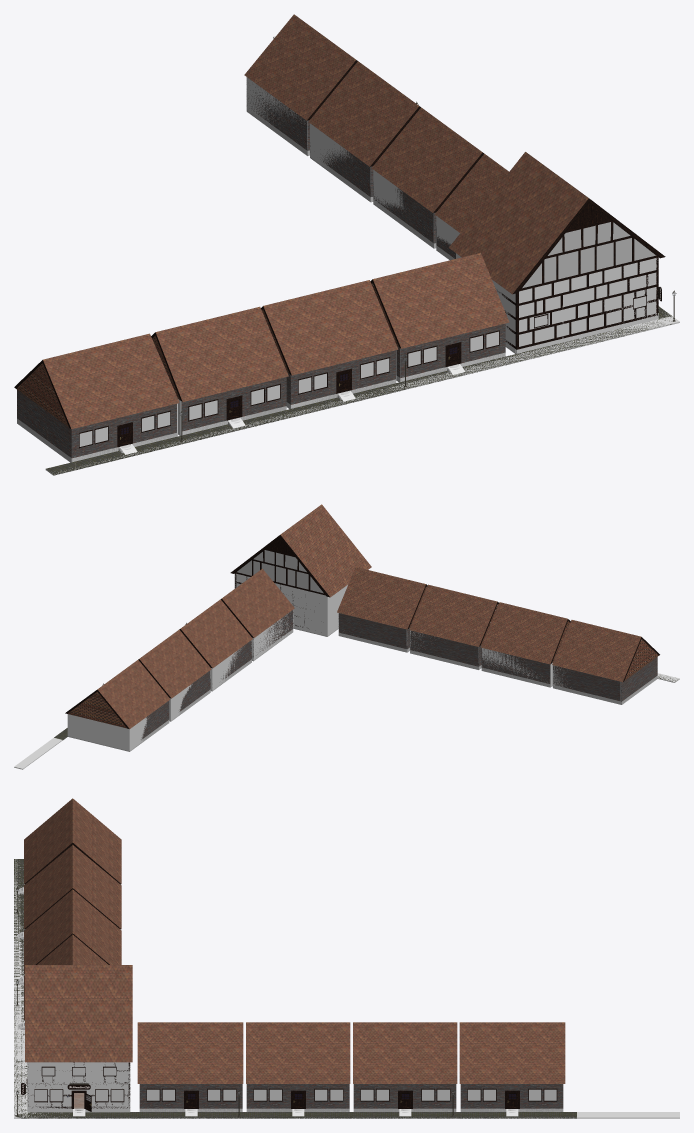
Rendered from FMC Buildings Base.fbx.
The picture shows the model from 3 angles, top to bottom: view 1: azimuth 30°, elevation 25°; view 2: azimuth 150°, elevation 25°; view 3: azimuth 270°, elevation 25°; orthographic projection. The views are drawn at different scales.
Parts seen in each view (by area): view 1: Secondary Buildings.001, Secondary Buildings.002, Roof Shingles, Side Wall 01, Sidewalk, Left, Roof Pitches, Sidewalk.001, Side Wall 01.008, Side Wall 01.006, Side Wall 01.004, Back Wall; view 2: Secondary Buildings.001, Secondary Buildings.002, Roof Shingles, Side Wall 02, Roof Pitches, Side Wall 02.004, Cobblestone Base, Right, Side Wall 01.002, Side Wall 01.018, Back Wall, Side Wall 01.004 (+1 smaller); view 3: Secondary Buildings.002, Secondary Buildings.001, Roof Shingles, Sidewalk, Front Wall.001, Front Wall.002, Sidewalk.001, Sidewalk.002, Window Frames.
Part boxes in pixels (bbox=[...]): Secondary Buildings.001: bbox=[14, 253, 509, 462]; Secondary Buildings.002: bbox=[244, 14, 508, 259]; Roof Shingles: bbox=[449, 152, 665, 294]; Side Wall 01: bbox=[516, 258, 657, 353]; Sidewalk: bbox=[46, 306, 672, 475]; Left: bbox=[516, 204, 658, 349]; Roof Pitches: bbox=[522, 203, 655, 288]; Sidewalk.001: bbox=[45, 316, 679, 475]; Side Wall 01.008: bbox=[247, 77, 305, 124]; Side Wall 01.006: bbox=[310, 124, 352, 169]; Side Wall 01.004: bbox=[373, 170, 406, 214]; Back Wall: bbox=[456, 253, 515, 352]; Secondary Buildings.001: bbox=[337, 567, 659, 704]; Secondary Buildings.002: bbox=[65, 568, 294, 742]; Roof Shingles: bbox=[230, 504, 371, 597]; Side Wall 02: bbox=[235, 573, 327, 635]; Roof Pitches: bbox=[237, 538, 323, 593]; Side Wall 02.004: bbox=[68, 714, 129, 750]; Cobblestone Base: bbox=[62, 628, 657, 751]; Right: bbox=[235, 538, 324, 628]; Side Wall 01.002: bbox=[254, 613, 292, 659]; Side Wall 01.018: bbox=[482, 648, 547, 682]; Back Wall: bbox=[327, 585, 347, 636]; Side Wall 01.004: bbox=[212, 648, 241, 689]; Secondary Buildings.002: bbox=[137, 1022, 565, 1112]; Secondary Buildings.001: bbox=[19, 798, 121, 1029]; Roof Shingles: bbox=[25, 965, 132, 1062]; Sidewalk: bbox=[14, 859, 576, 1118]; Front Wall.001: bbox=[27, 1062, 73, 1112]; Front Wall.002: bbox=[84, 1062, 130, 1112]; Sidewalk.001: bbox=[14, 859, 27, 1118]; Sidewalk.002: bbox=[27, 1112, 679, 1118]; Window Frames: bbox=[26, 1066, 124, 1108].
Size of what is drawn, in the model's own units: 7857 by 1685 by 8550.
